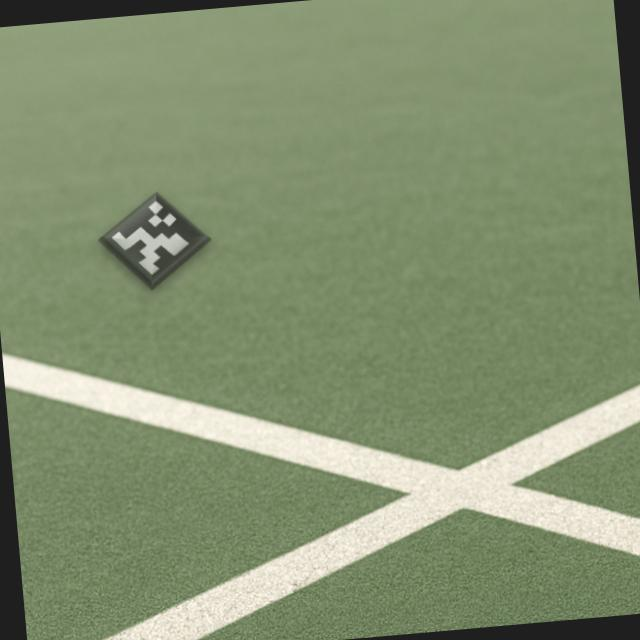marker: (93, 179, 220, 298)
